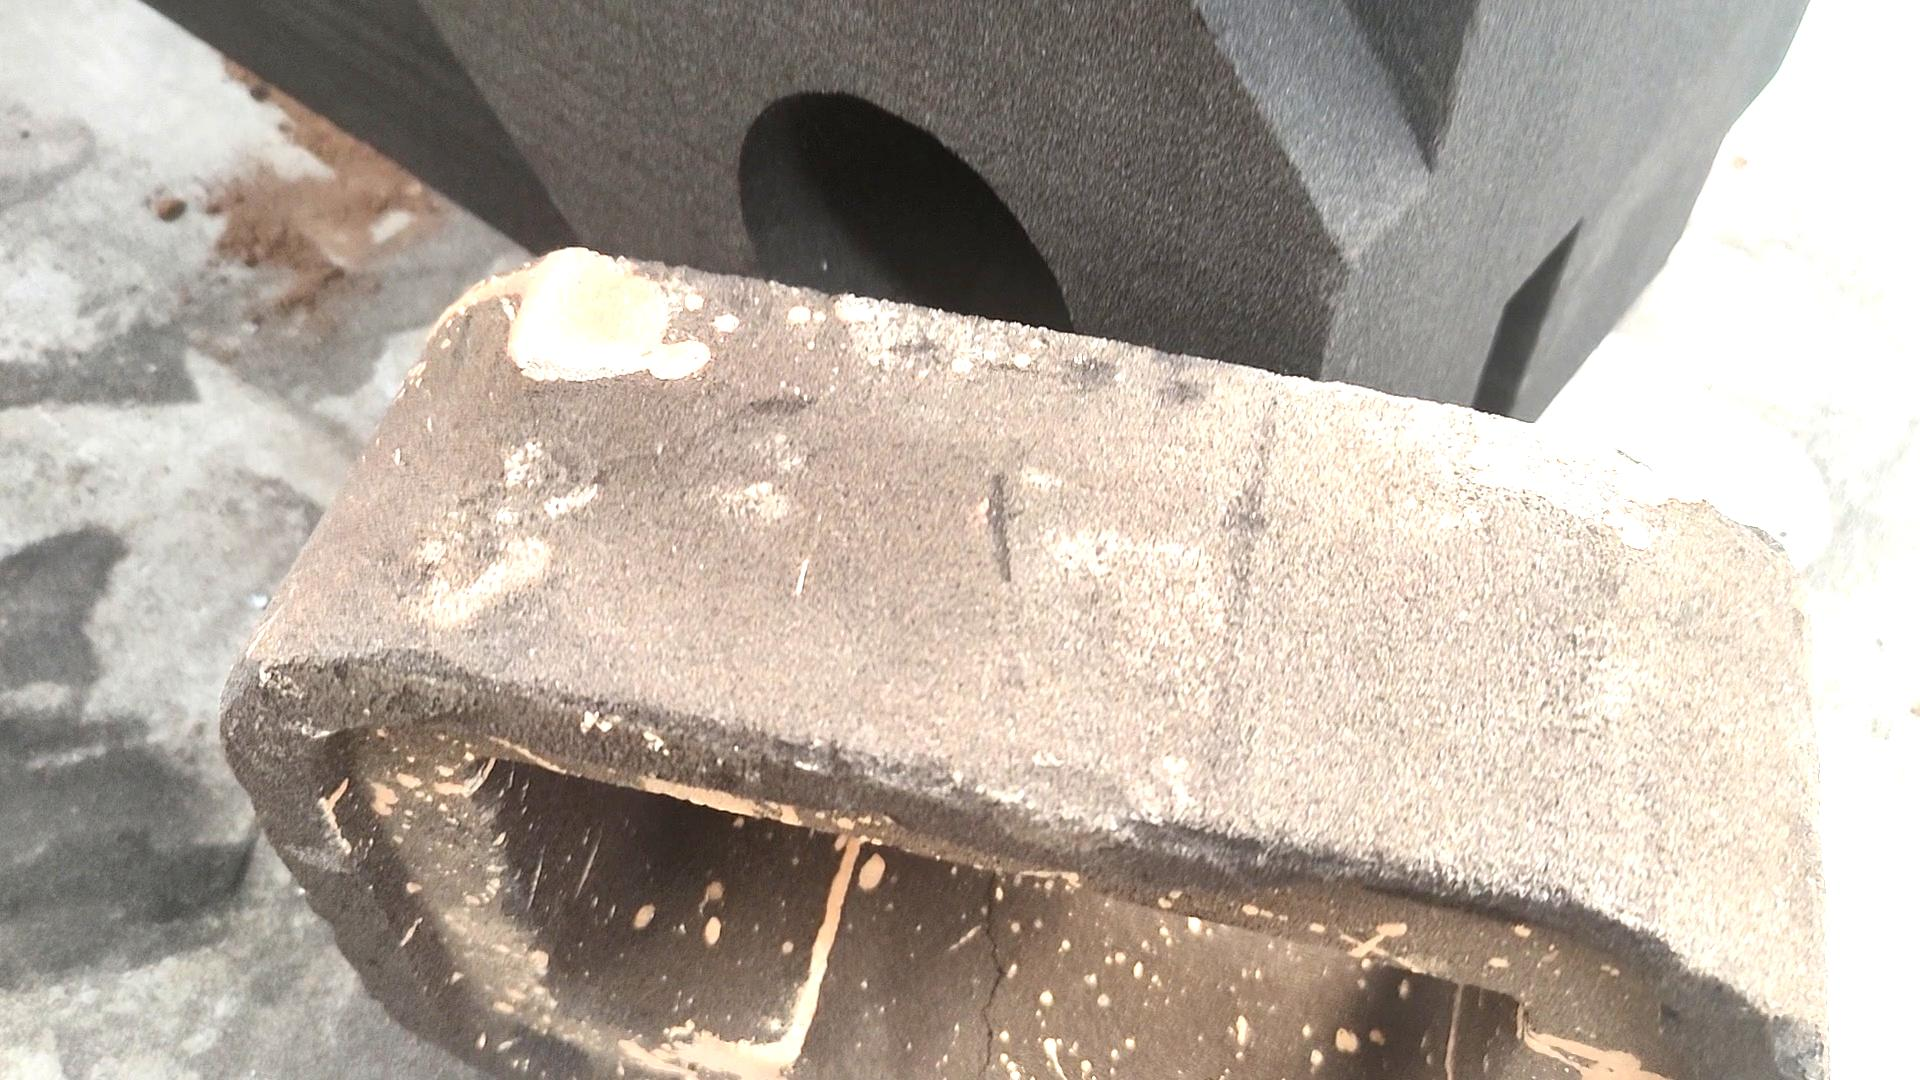pouring hole: (736, 91, 1087, 393)
